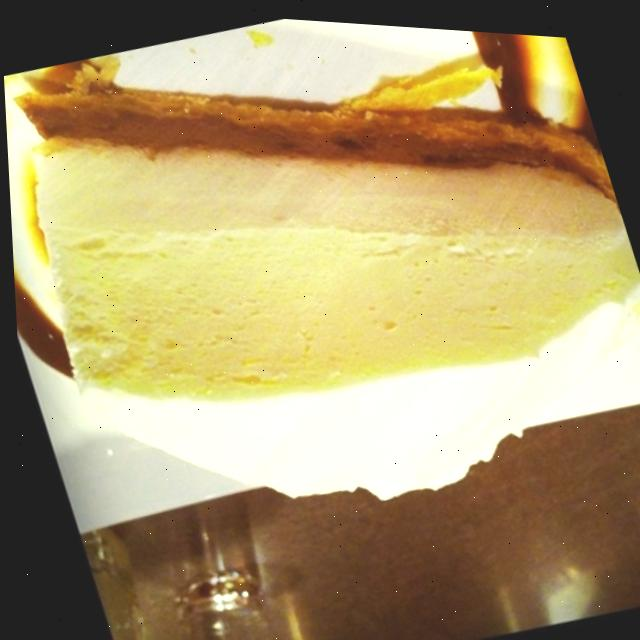蛋糕甜品: (0, 0, 640, 626)
